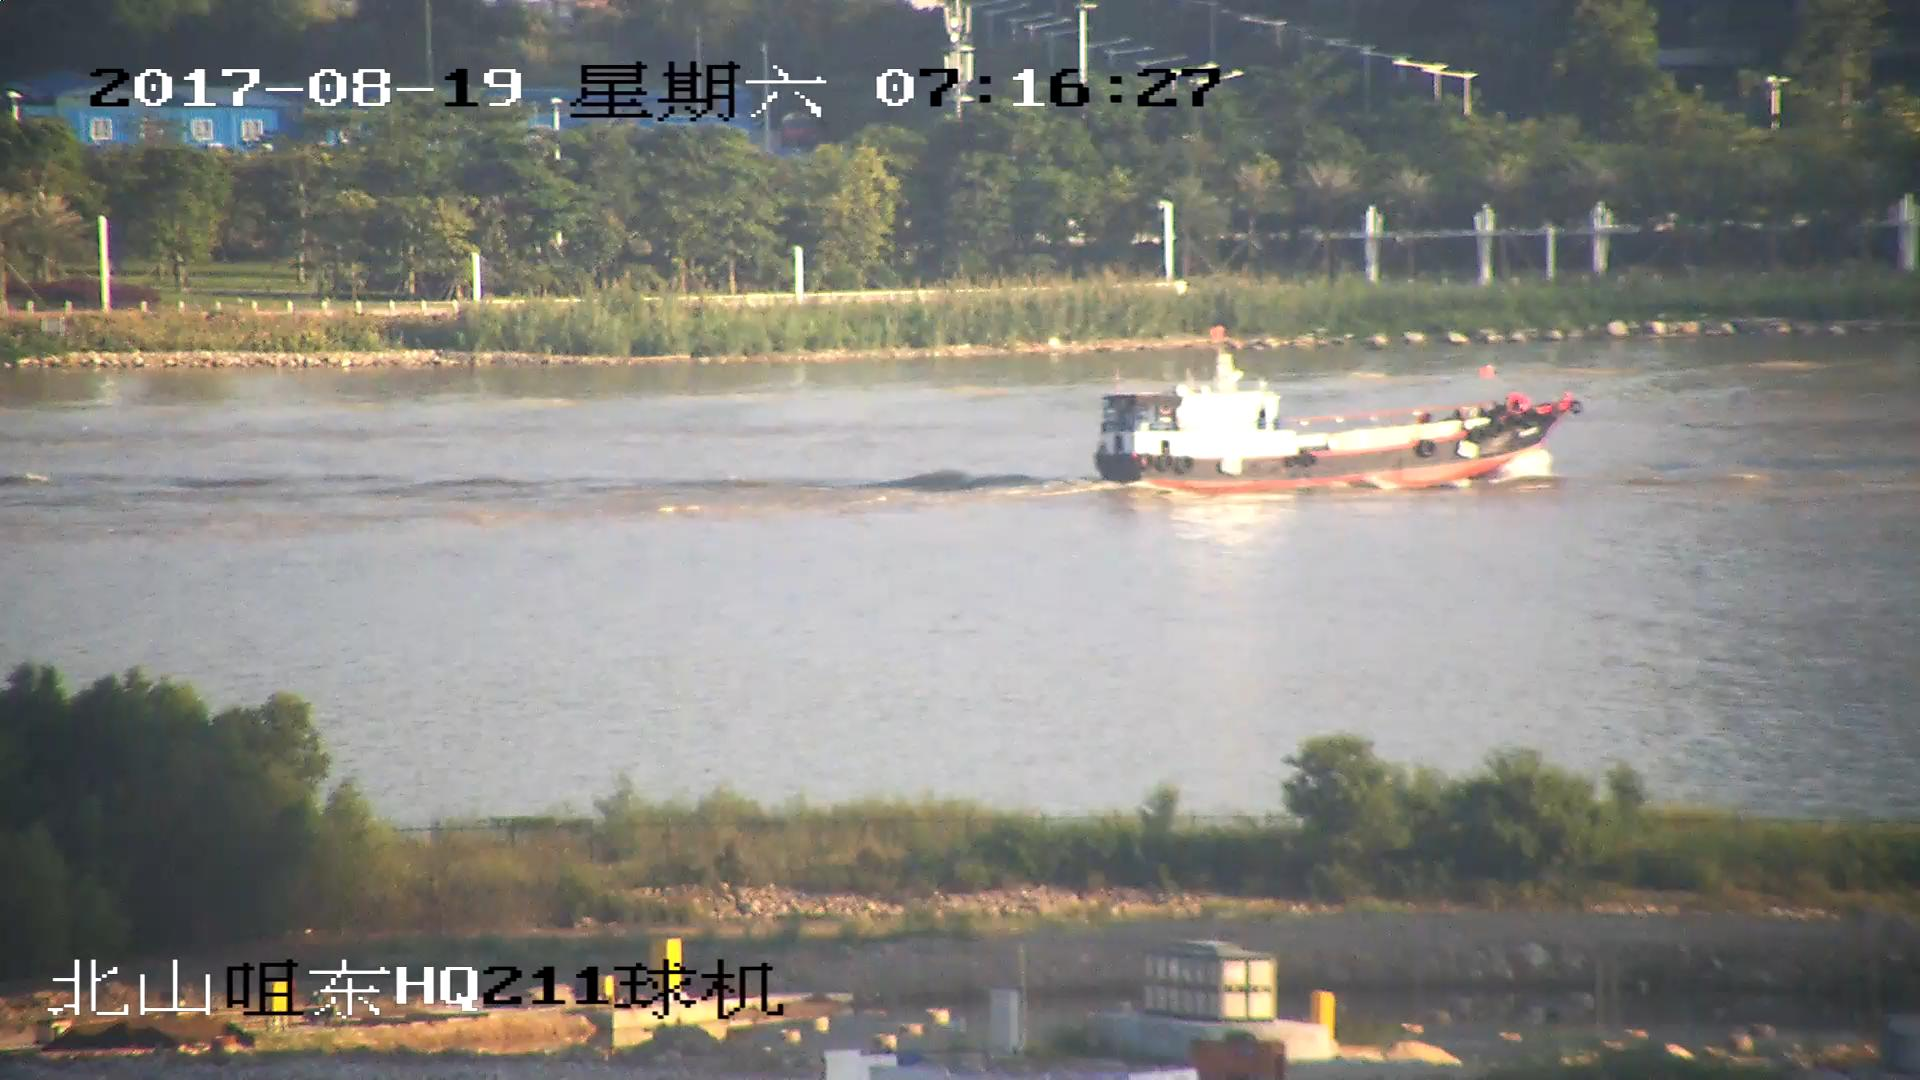fishing boat: (1099, 342, 1584, 504)
